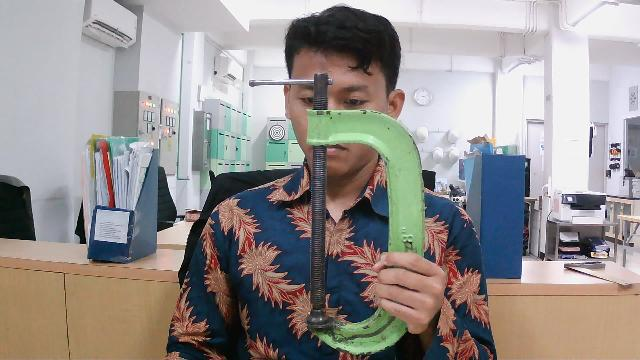tekiro_c_clamp: (248, 73, 451, 355)
